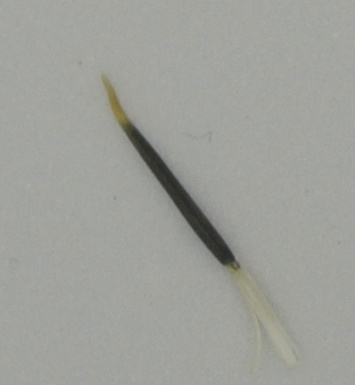เมล็ดดีเรียวยาว: (98, 78, 310, 372)
